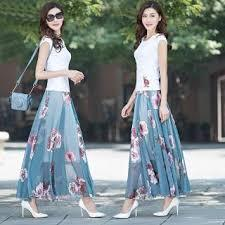skirt: (10, 75, 99, 208), (112, 89, 202, 203)
